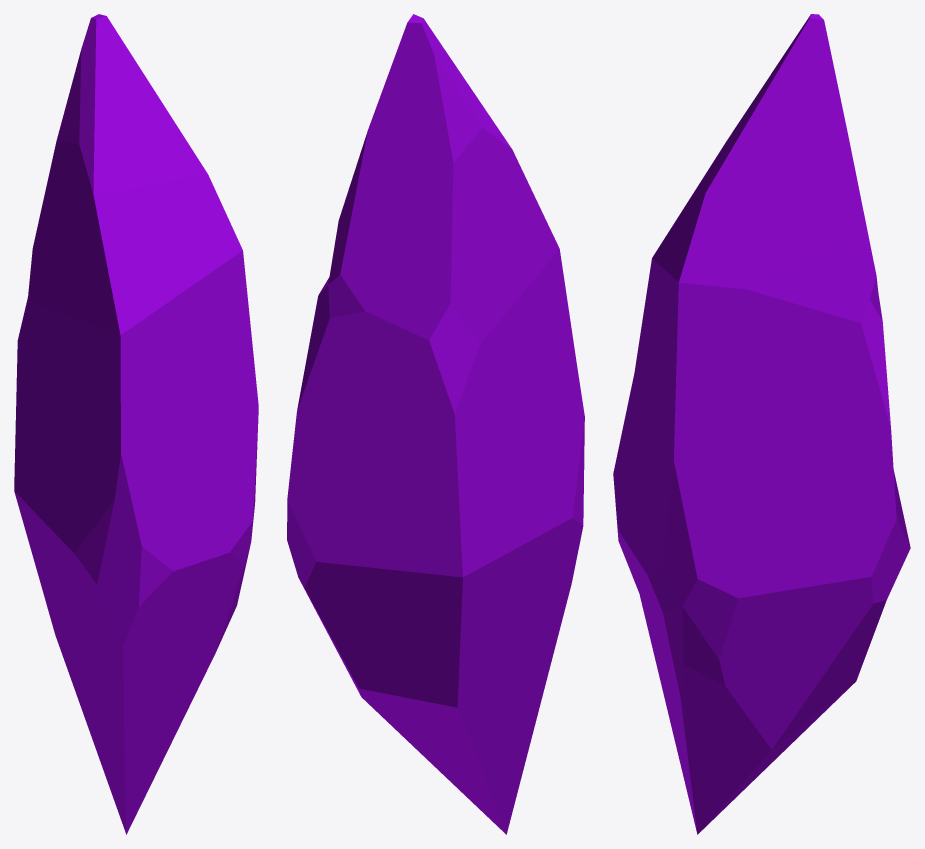
Rendered from kristal_05.fbx.
The picture shows the model from 3 angles, left to right: view 1: azimuth 30°, elevation 25°; view 2: azimuth 150°, elevation 25°; view 3: azimuth 270°, elevation 25°; orthographic projection. The views are drawn at different scales.
Parts seen in each view (by area): view 1: kristal_05; view 2: kristal_05; view 3: kristal_05.
Part boxes in pixels (x1,y1,x2,y2): kristal_05: (14, 14, 258, 834); kristal_05: (287, 14, 584, 834); kristal_05: (613, 14, 910, 834).
Bounding box in the file's own units: 0.2323 × 0.3006 × 0.9299.
